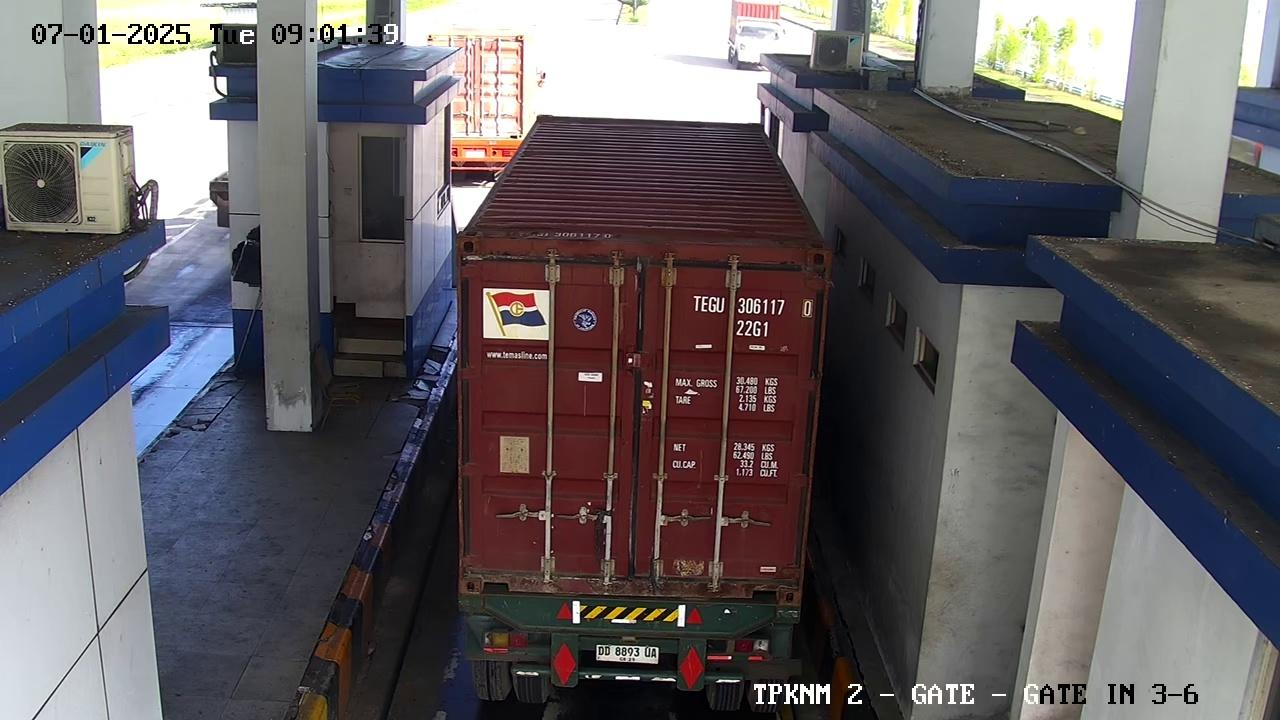Container_ID: (674, 289, 824, 345)
plate_number: (579, 637, 675, 674)
